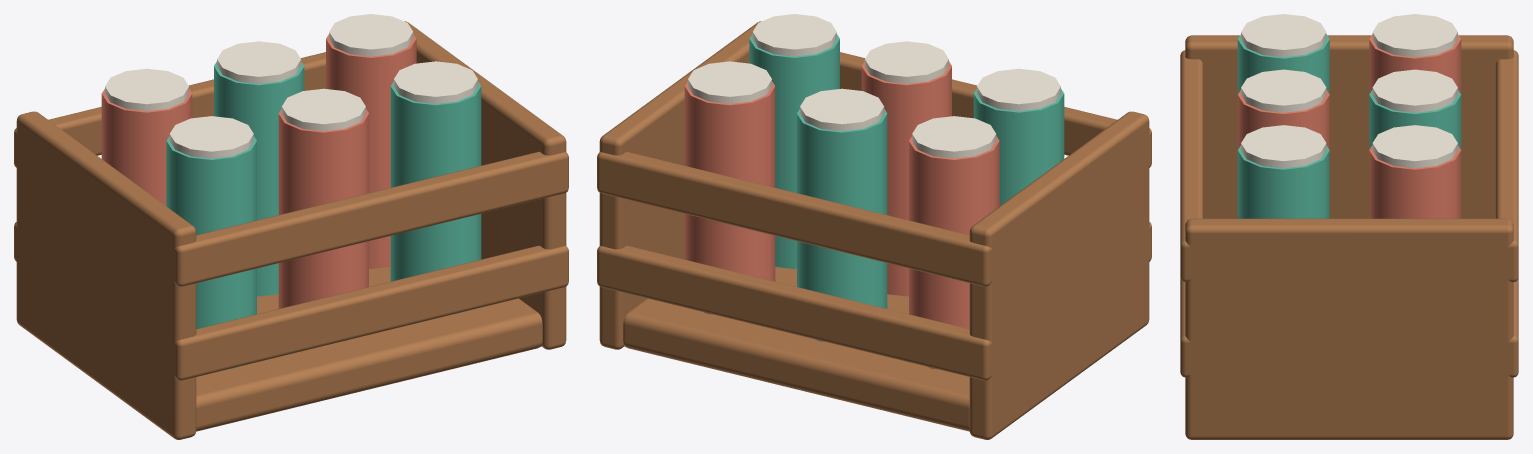
File: energy-drink-crate.glb
3 renders of one model, left to right at view 1: azimuth 30°, elevation 25°; view 2: azimuth 150°, elevation 25°; view 3: azimuth 270°, elevation 25°, orthographic.
Visible parts, largest first — view 1: energy_drink_crate; view 2: energy_drink_crate; view 3: energy_drink_crate.
Boxes of the visible parts, left/top/right/bottom form: energy_drink_crate: left=14, top=14, right=568, bottom=439; energy_drink_crate: left=597, top=14, right=1151, bottom=439; energy_drink_crate: left=1180, top=14, right=1518, bottom=439.
Size of the model in its own units: 0.7 by 0.432 by 0.515.
